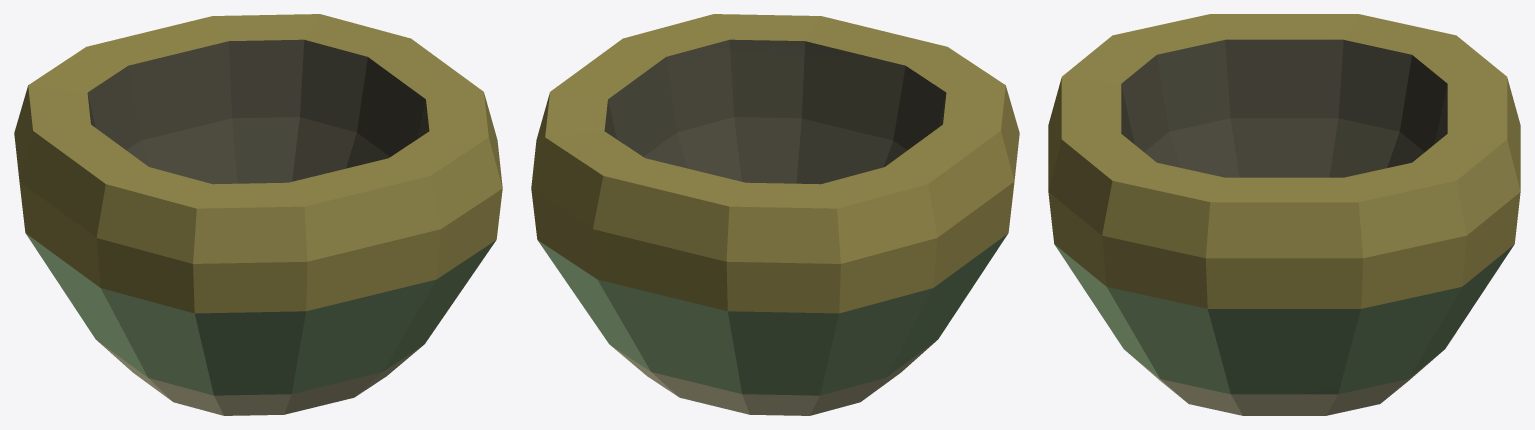
The model's file is tigela1.fbx.
3 views of the same model, side by side, from view 1: azimuth 30°, elevation 25°; view 2: azimuth 150°, elevation 25°; view 3: azimuth 270°, elevation 25° (orthographic). The views are drawn at different scales.
Visible parts, largest first — view 1: Cube; view 2: Cube; view 3: Cube.
Part boxes in pixels (left/top/right/bottom): Cube: left=14, top=14, right=502, bottom=415; Cube: left=531, top=14, right=1019, bottom=415; Cube: left=1048, top=14, right=1520, bottom=415.
Size of the model in its own units: 282 by 168 by 282.
Materials: 1 (1 with a texture image).
